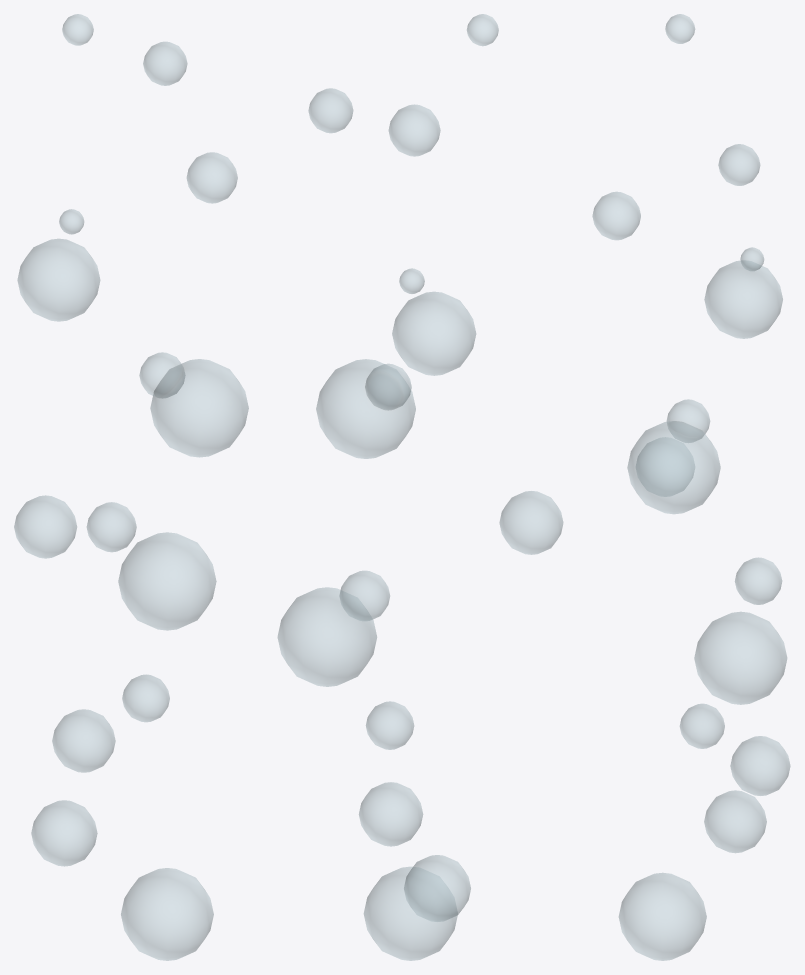
File: mu_bubbles.glb
3 renders of one model, left to right at view 1: azimuth 30°, elevation 25°; view 2: azimuth 150°, elevation 25°; view 3: azimuth 270°, elevation 25°, orthographic. The views are drawn at different scales.
Visible parts, largest first — view 1: mu_bubbles; view 2: mu_bubbles; view 3: mu_bubbles.
Boxes of the visible parts, x1,y1,x2,y2 form: mu_bubbles: [14, 14, 248, 960]; mu_bubbles: [277, 14, 563, 960]; mu_bubbles: [592, 14, 790, 960].
Size of the model in its own units: 1.26 by 4.98 by 0.9894.
1 material, 1 textured.
